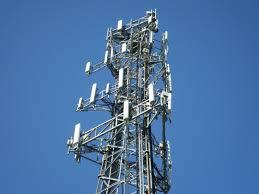antenna: (72, 122, 83, 143), (89, 82, 99, 105), (121, 97, 130, 119), (116, 67, 123, 90), (77, 93, 85, 108), (148, 82, 154, 102), (83, 60, 92, 73), (104, 81, 111, 97), (117, 19, 123, 30), (103, 49, 108, 62), (121, 43, 126, 54)
